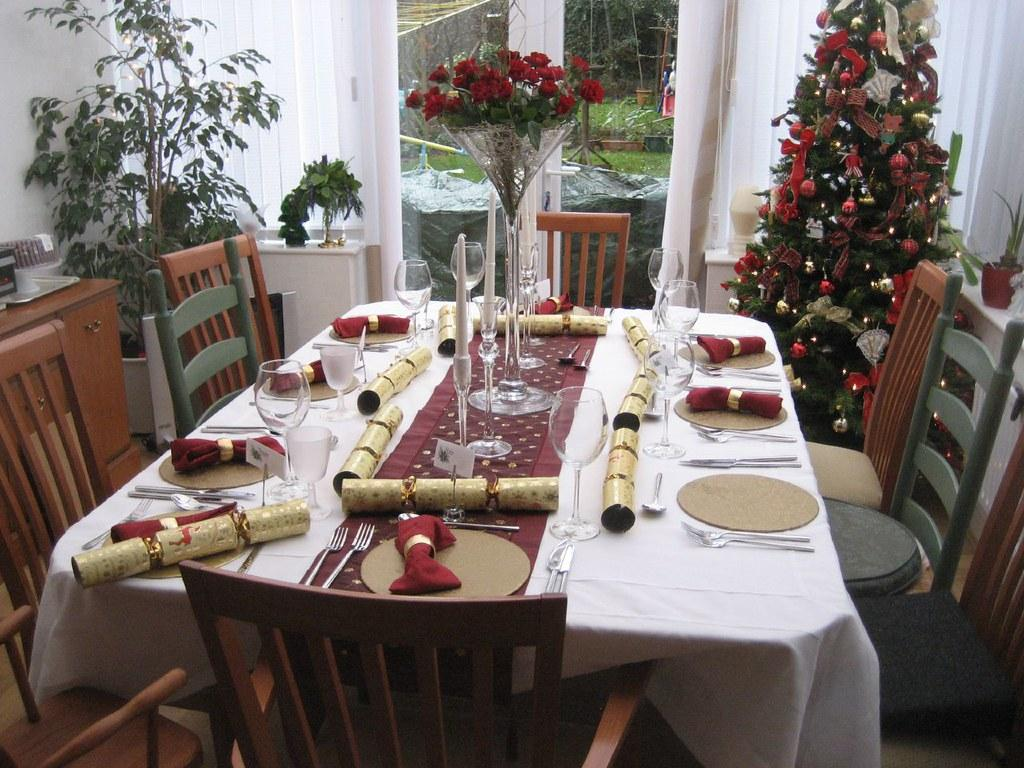table: (30, 298, 883, 767)
